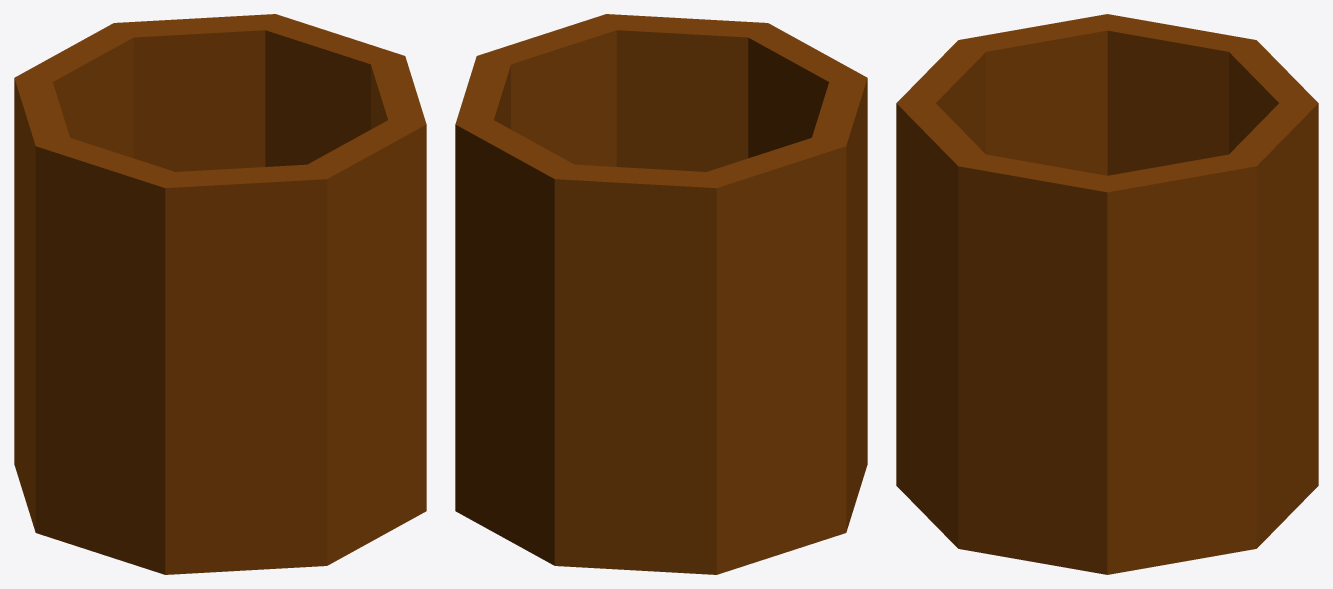
File: Bucket.glb
3 renders of one model, left to right at view 1: azimuth 30°, elevation 25°; view 2: azimuth 150°, elevation 25°; view 3: azimuth 270°, elevation 25°, orthographic.
Visible parts, largest first — view 1: Bucket; view 2: Bucket; view 3: Bucket.
Part boxes in pixels (bbox=[...]): Bucket: bbox=[14, 14, 426, 574]; Bucket: bbox=[455, 14, 867, 574]; Bucket: bbox=[896, 14, 1318, 574].
Size of what is drawn, in the model's own units: 2 by 2 by 2.
